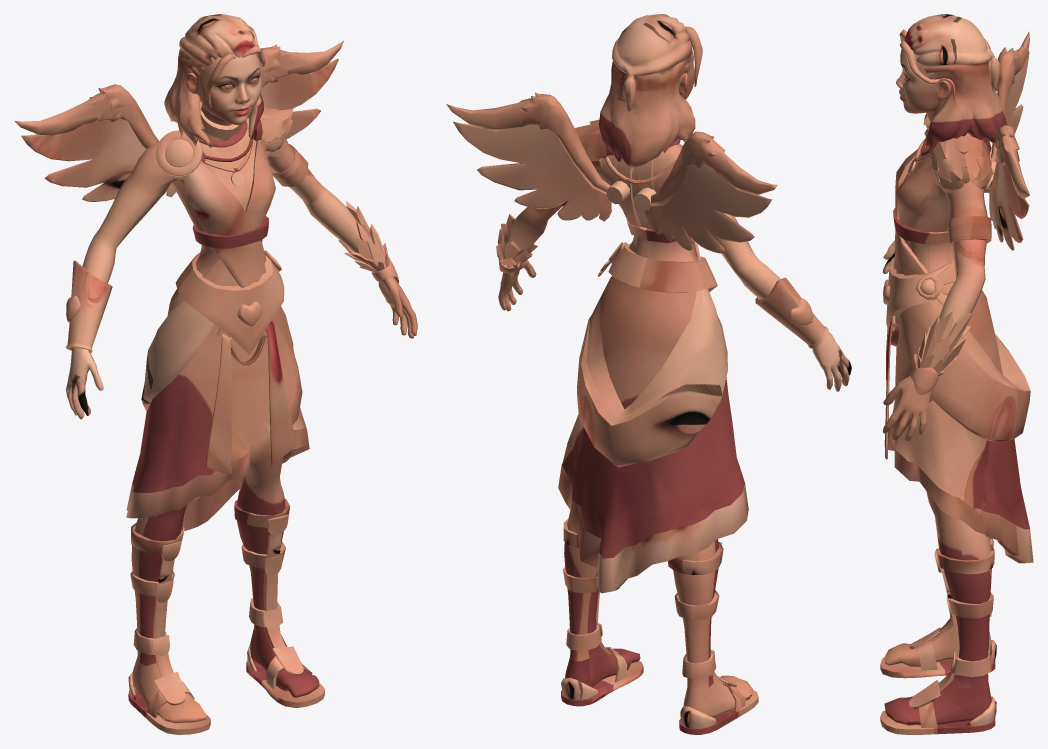
The model's file is Angel  Mujer.fbx.
3 renders of one model, left to right at view 1: azimuth 30°, elevation 25°; view 2: azimuth 150°, elevation 25°; view 3: azimuth 270°, elevation 25°, orthographic.
Visible parts, largest first — view 1: Wolf3D_Head; view 2: Wolf3D_Head; view 3: Wolf3D_Head.
Part boxes in pixels (x1,y1,x2,y2): Wolf3D_Head: (15, 14, 417, 734); Wolf3D_Head: (446, 14, 851, 734); Wolf3D_Head: (880, 14, 1033, 734).
Size of the model in its own units: 92.79 by 176 by 36.1.
8 materials, 8 textured.
